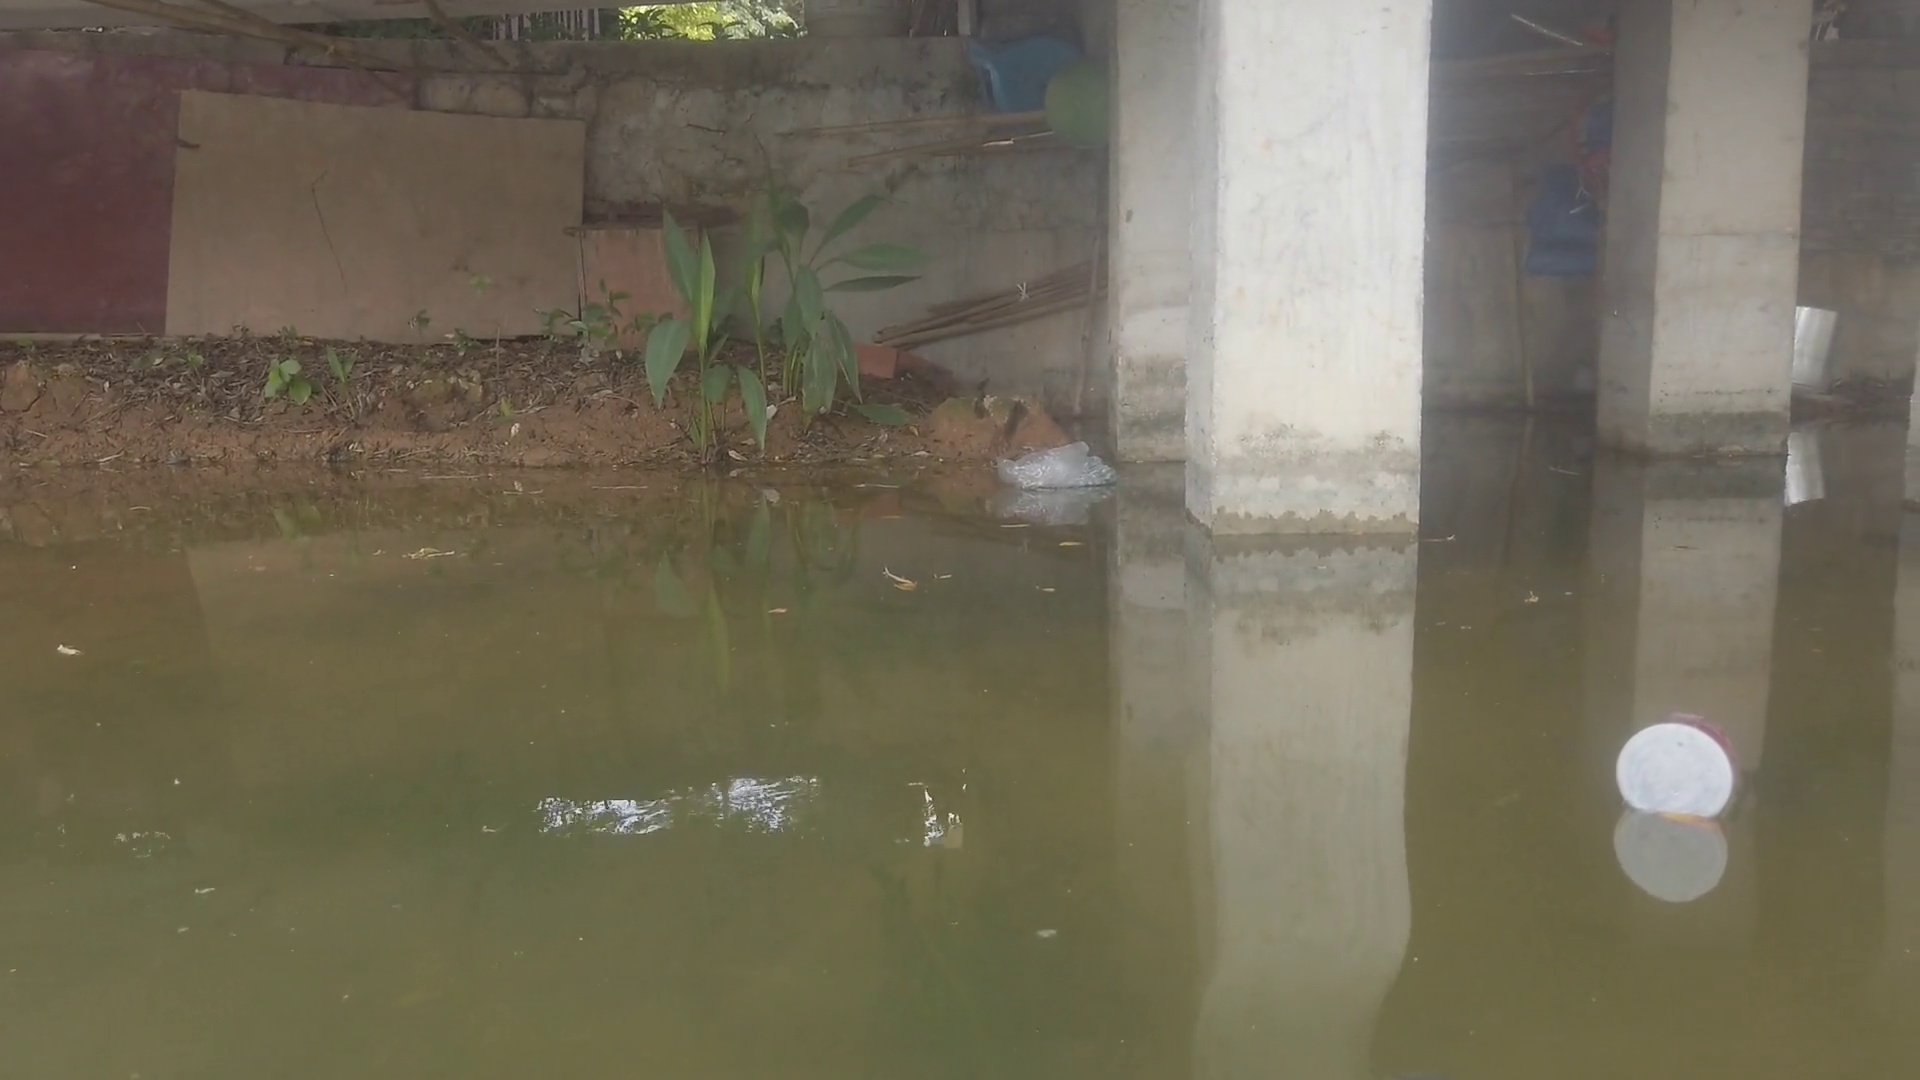bottle: (1614, 711, 1754, 825)
plastic: (996, 440, 1124, 495)
